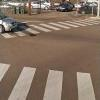Crosswalk: (4, 22, 99, 36)
